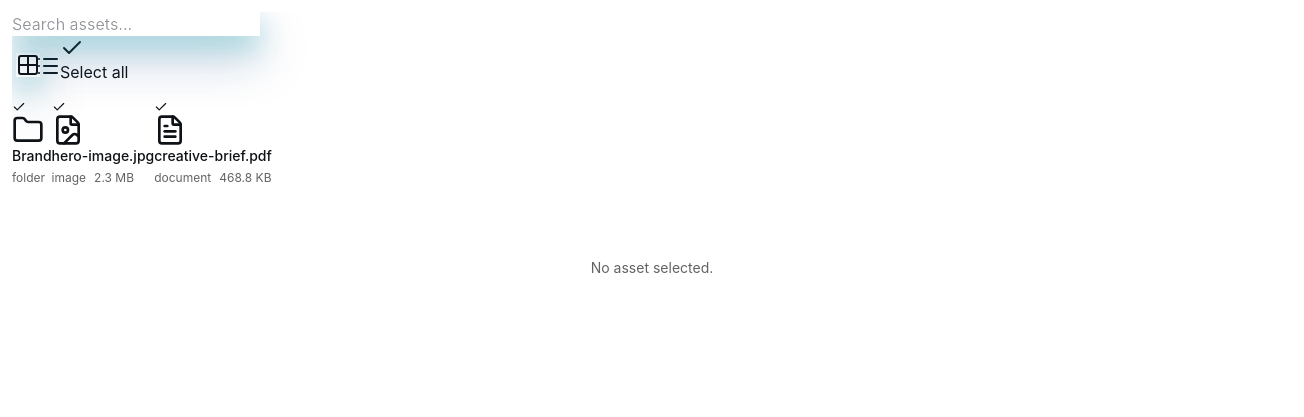
Test case: AssetBrowser › supports selecting multiple assets with visible selection controls
Expected: the button with aria-label "Select all assets" is shown, [60,36,128,84]
Click the option "hero-image.jpg image 2.3 MB". click: (103, 143)
box: [52,100,154,186]
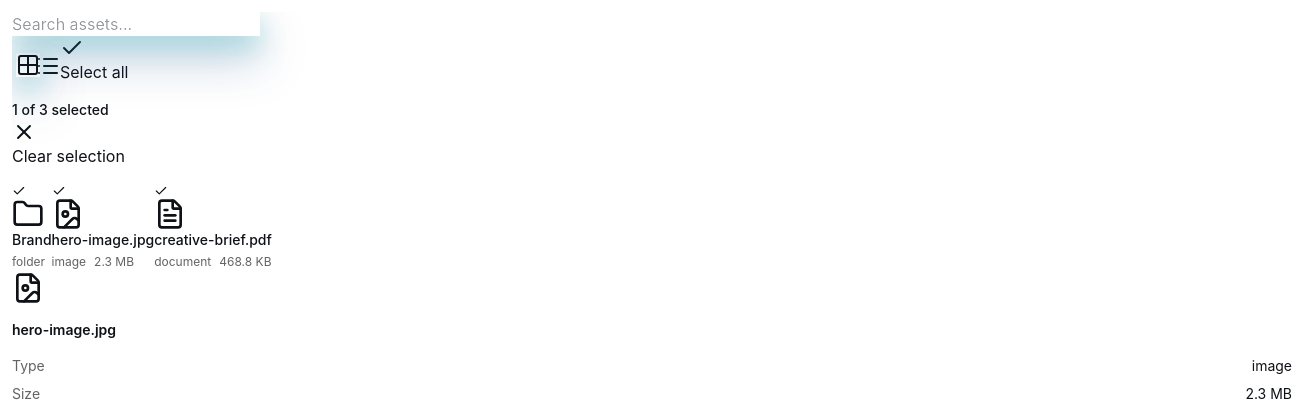
Click the option "creative-brief.pdf document 468.8 KB". click: (213, 227)
box: [154,184,272,270]
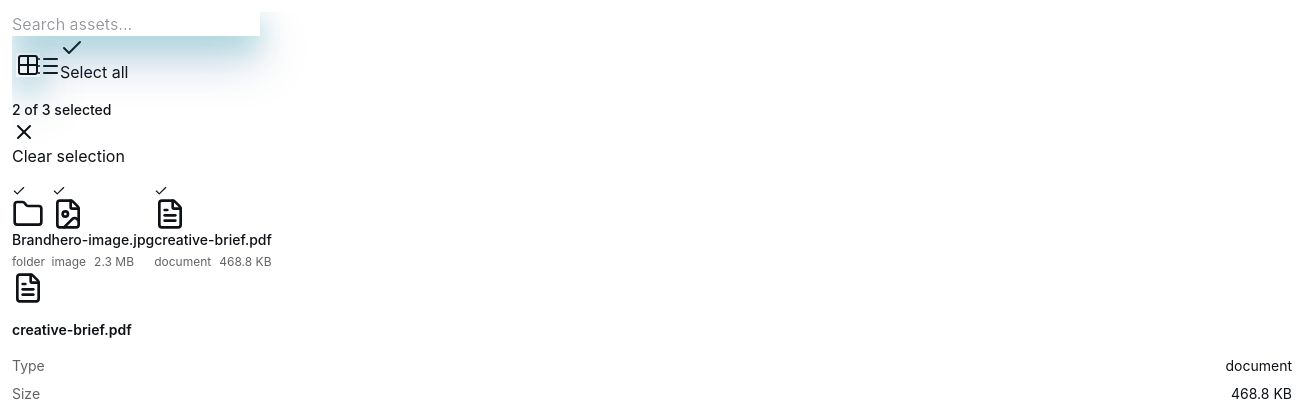
Result: the text "2 of 3 selected" is shown at [12,101,112,118]
